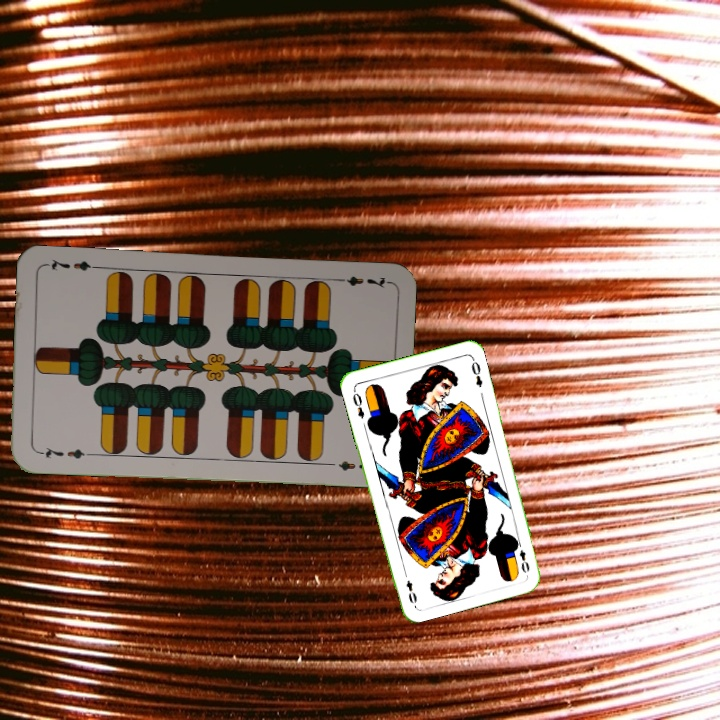E7: (331, 272, 390, 291), (34, 443, 93, 461)
EO: (511, 537, 532, 576), (348, 389, 367, 422)
